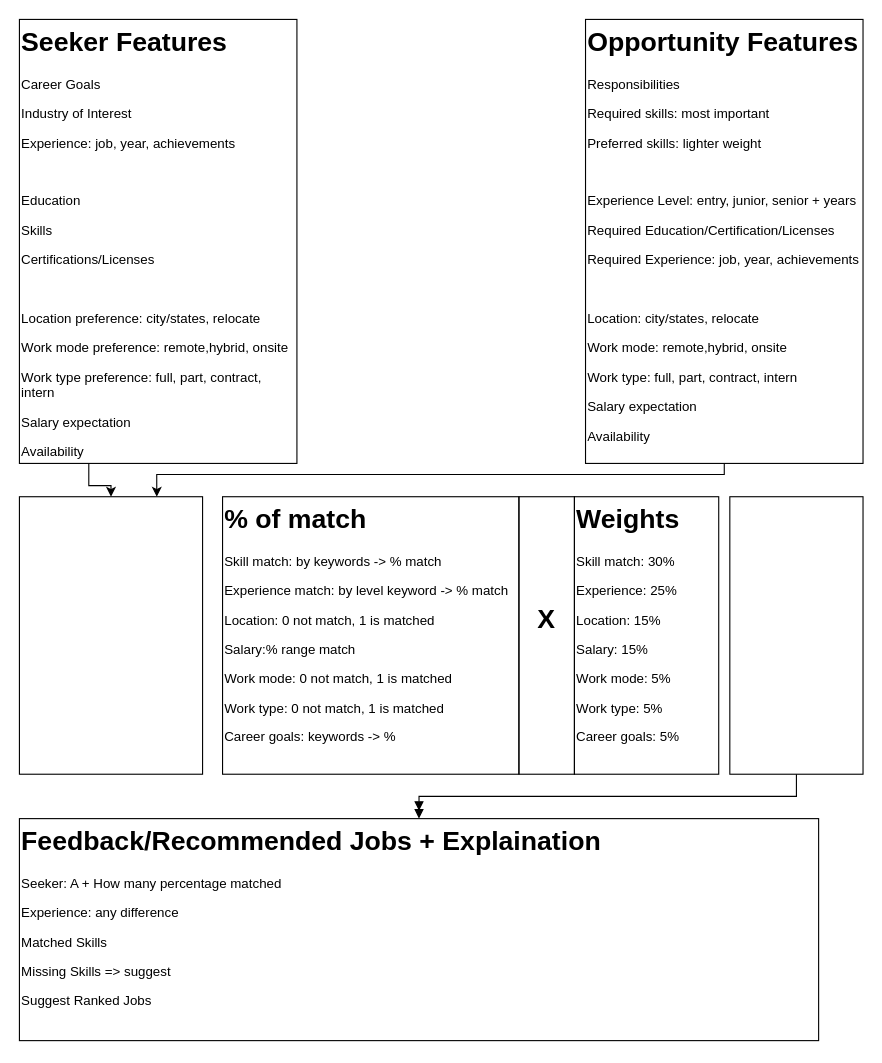
The diagram is 882 pixels wide and 1063 high, and some of its shapes have lost their labels. The box of each missing label's shape, as (x1, y1, x2, y2) in pixels:
Match Method: (18, 496, 203, 774)
Result example: 80%: (729, 496, 863, 774)
